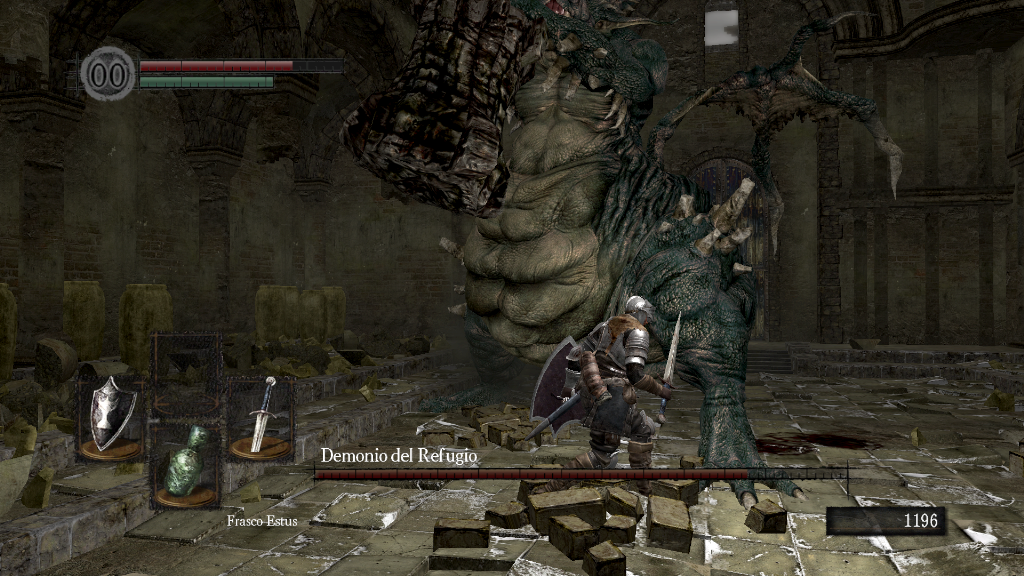asylumDemon: (335, 1, 909, 504)
bossHP: (314, 469, 847, 479)
health: (138, 58, 343, 71)
humanity: (80, 45, 136, 102)
player: (527, 294, 683, 465)
souls: (825, 506, 945, 536)
stamina: (138, 74, 274, 88)
